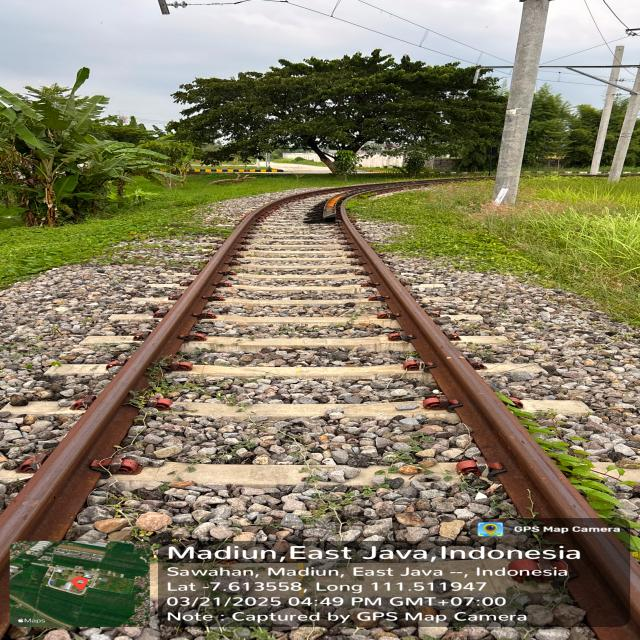rail-detection: (0, 201, 284, 566), (340, 205, 598, 519), (260, 177, 481, 226), (571, 534, 640, 640)
